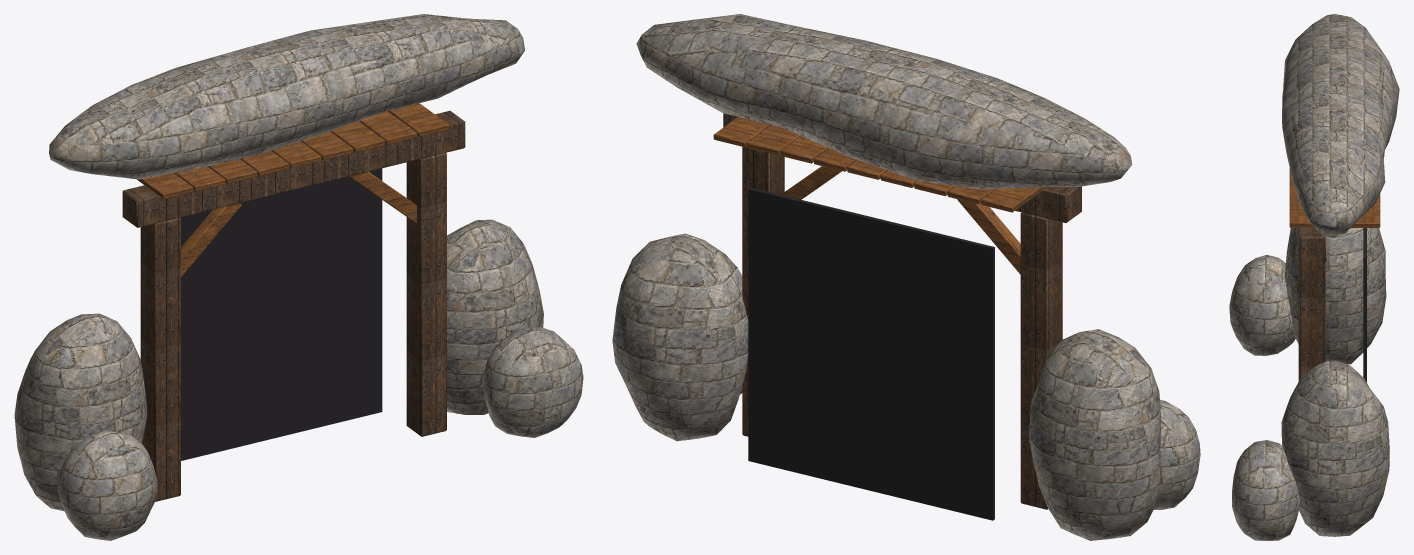
Rendered from tunnel-entrance-v01.glb.
The picture shows the model from 3 angles, left to right: view 1: azimuth 30°, elevation 25°; view 2: azimuth 150°, elevation 25°; view 3: azimuth 270°, elevation 25°; orthographic projection. The views are drawn at different scales.
Parts seen in each view (by area): view 1: tunnel-entrance; view 2: tunnel-entrance; view 3: tunnel-entrance.
Boxes of the visible parts, box(x1,y1,x2,y2) form: tunnel-entrance: box(14, 14, 583, 540); tunnel-entrance: box(612, 14, 1200, 540); tunnel-entrance: box(1229, 14, 1399, 540).
Size of the model in its own units: 7.04 by 5.27 by 2.25.
4 materials, 3 textured.
